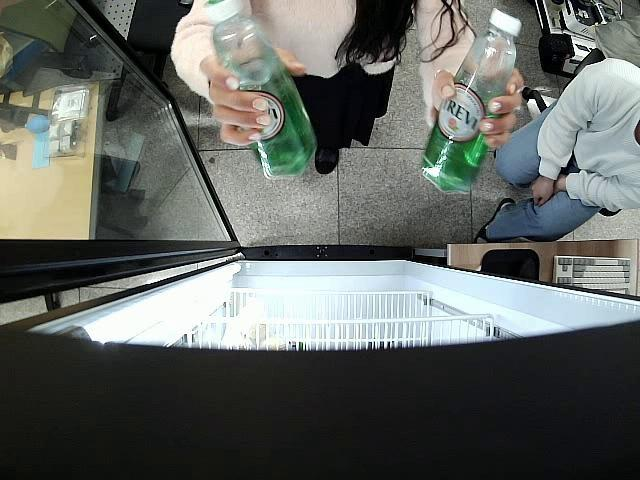18_trevi: (203, 0, 320, 181), (418, 10, 522, 192)
